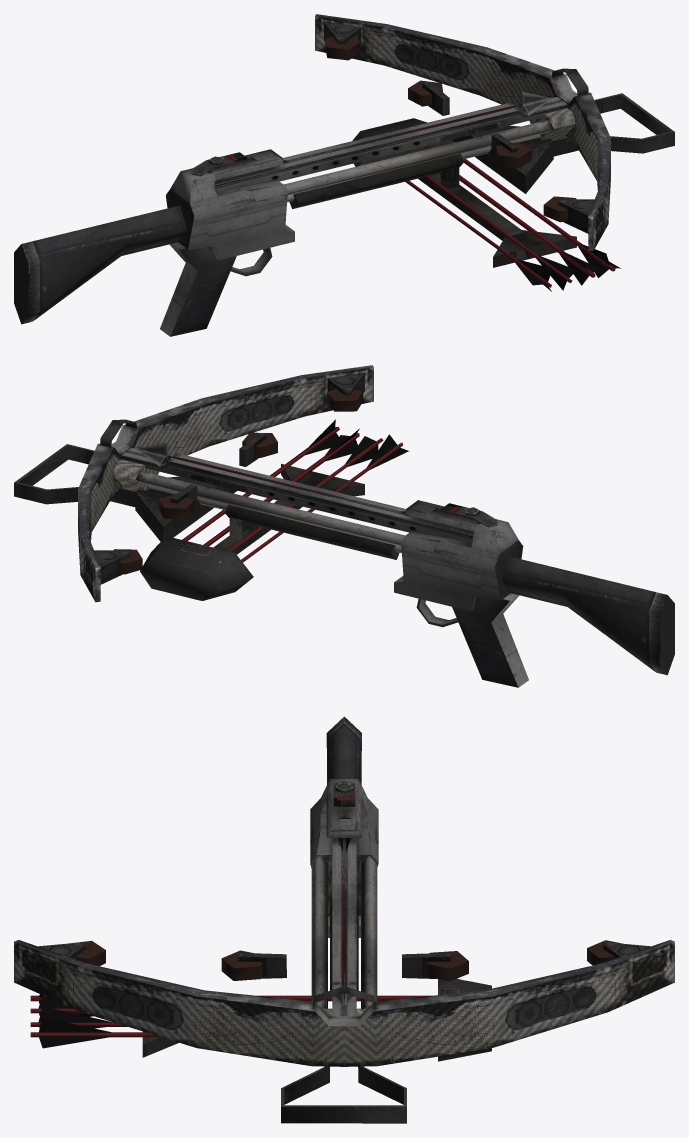
The model's file is t5_weapon_mp_crossbow_stow_LOD2.obj.
The picture shows the model from 3 angles, top to bottom: view 1: azimuth 30°, elevation 25°; view 2: azimuth 150°, elevation 25°; view 3: azimuth 270°, elevation 25°; orthographic projection. The views are drawn at different scales.
Visible parts, largest first — view 1: mtl_t5_weapon_crossbow; view 2: mtl_t5_weapon_crossbow; view 3: mtl_t5_weapon_crossbow.
Boxes of the visible parts, bbox=[...] form: mtl_t5_weapon_crossbow: bbox=[14, 14, 674, 336]; mtl_t5_weapon_crossbow: bbox=[14, 365, 674, 687]; mtl_t5_weapon_crossbow: bbox=[14, 716, 674, 1123].
Bounding box in the file's own units: 88.73 × 22.13 × 67.92.
